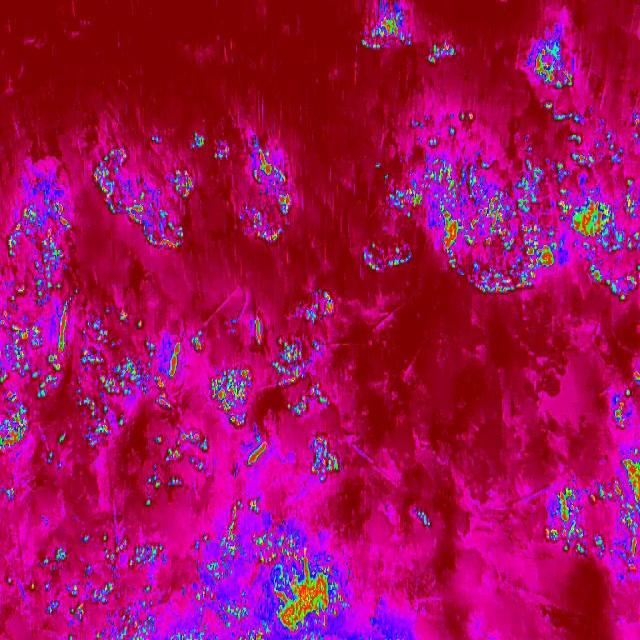fire: (360, 97, 640, 304), (206, 291, 358, 488), (72, 308, 214, 500), (181, 496, 342, 640), (0, 192, 74, 462), (9, 520, 171, 640), (85, 133, 212, 253), (541, 455, 640, 577), (212, 135, 308, 244), (358, 1, 461, 67), (526, 21, 576, 93), (601, 369, 640, 429)
